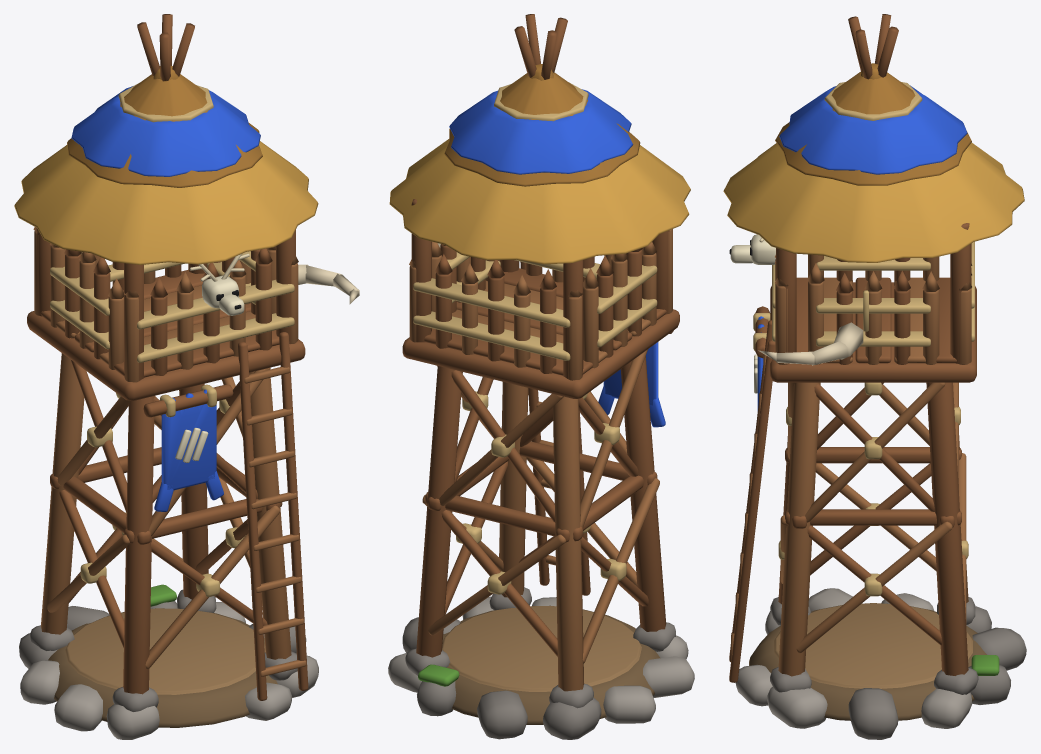
The model's file is Watchtower.glb.
3 renders of one model, left to right at view 1: azimuth 30°, elevation 25°; view 2: azimuth 150°, elevation 25°; view 3: azimuth 270°, elevation 25°, orthographic.
Parts seen in each view (by area): view 1: Watchtower; view 2: Watchtower; view 3: Watchtower.
Part boxes in pixels (x1,y1,x2,y2): Watchtower: (14,14,359,739); Watchtower: (388,14,694,739); Watchtower: (723,14,1026,739).
Bounding box in the file's own units: 2.17 × 4.92 × 2.05.
